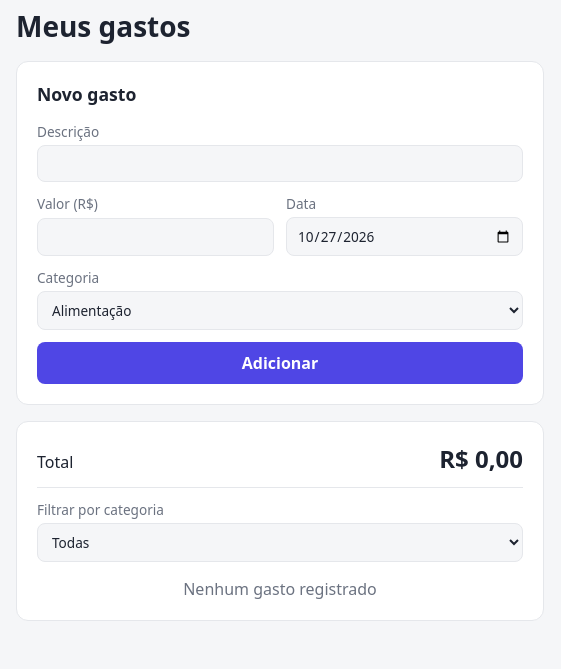
Test: App › mostra erro com valor inválido
In the field labelled "Descrição": coordinates (280, 164) [37, 145, 523, 182], type "Café"
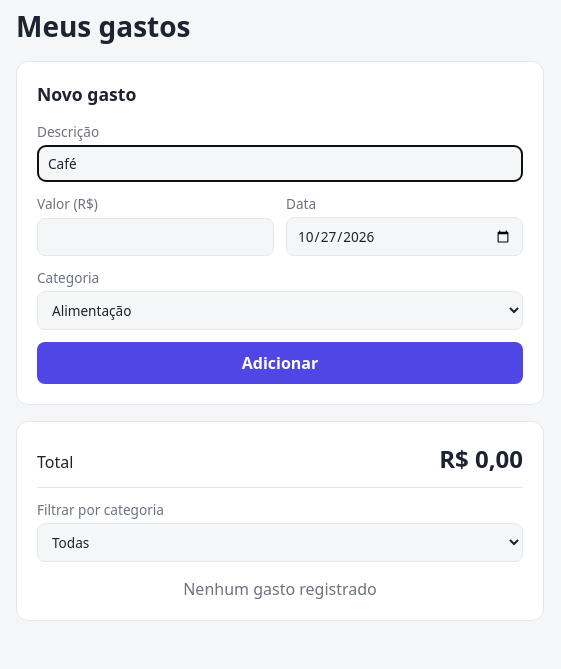
In the field labelled "Valor (R$)": coordinates (156, 237) [37, 218, 274, 256], type "0"
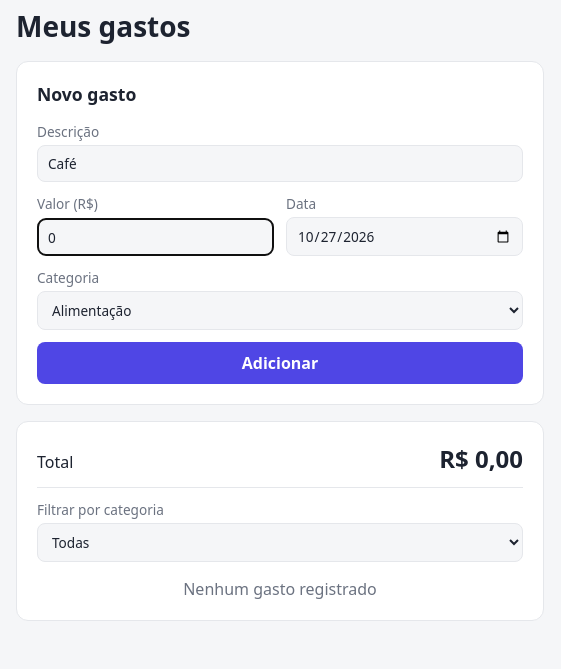
Click the button "Adicionar": coordinates (280, 363) [37, 342, 523, 384]
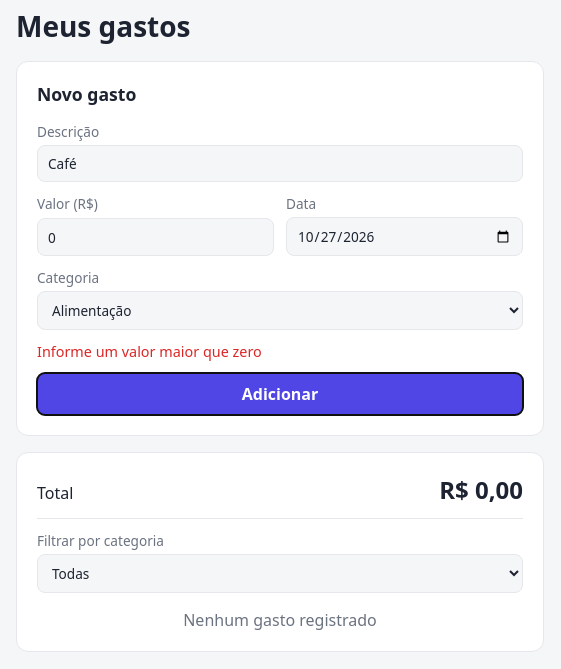
Check: the text "Nenhum gasto registrado" is shown, box [183, 609, 377, 631]
Check: the message reads "Informe um valor maior que zero", box [37, 342, 262, 361]
